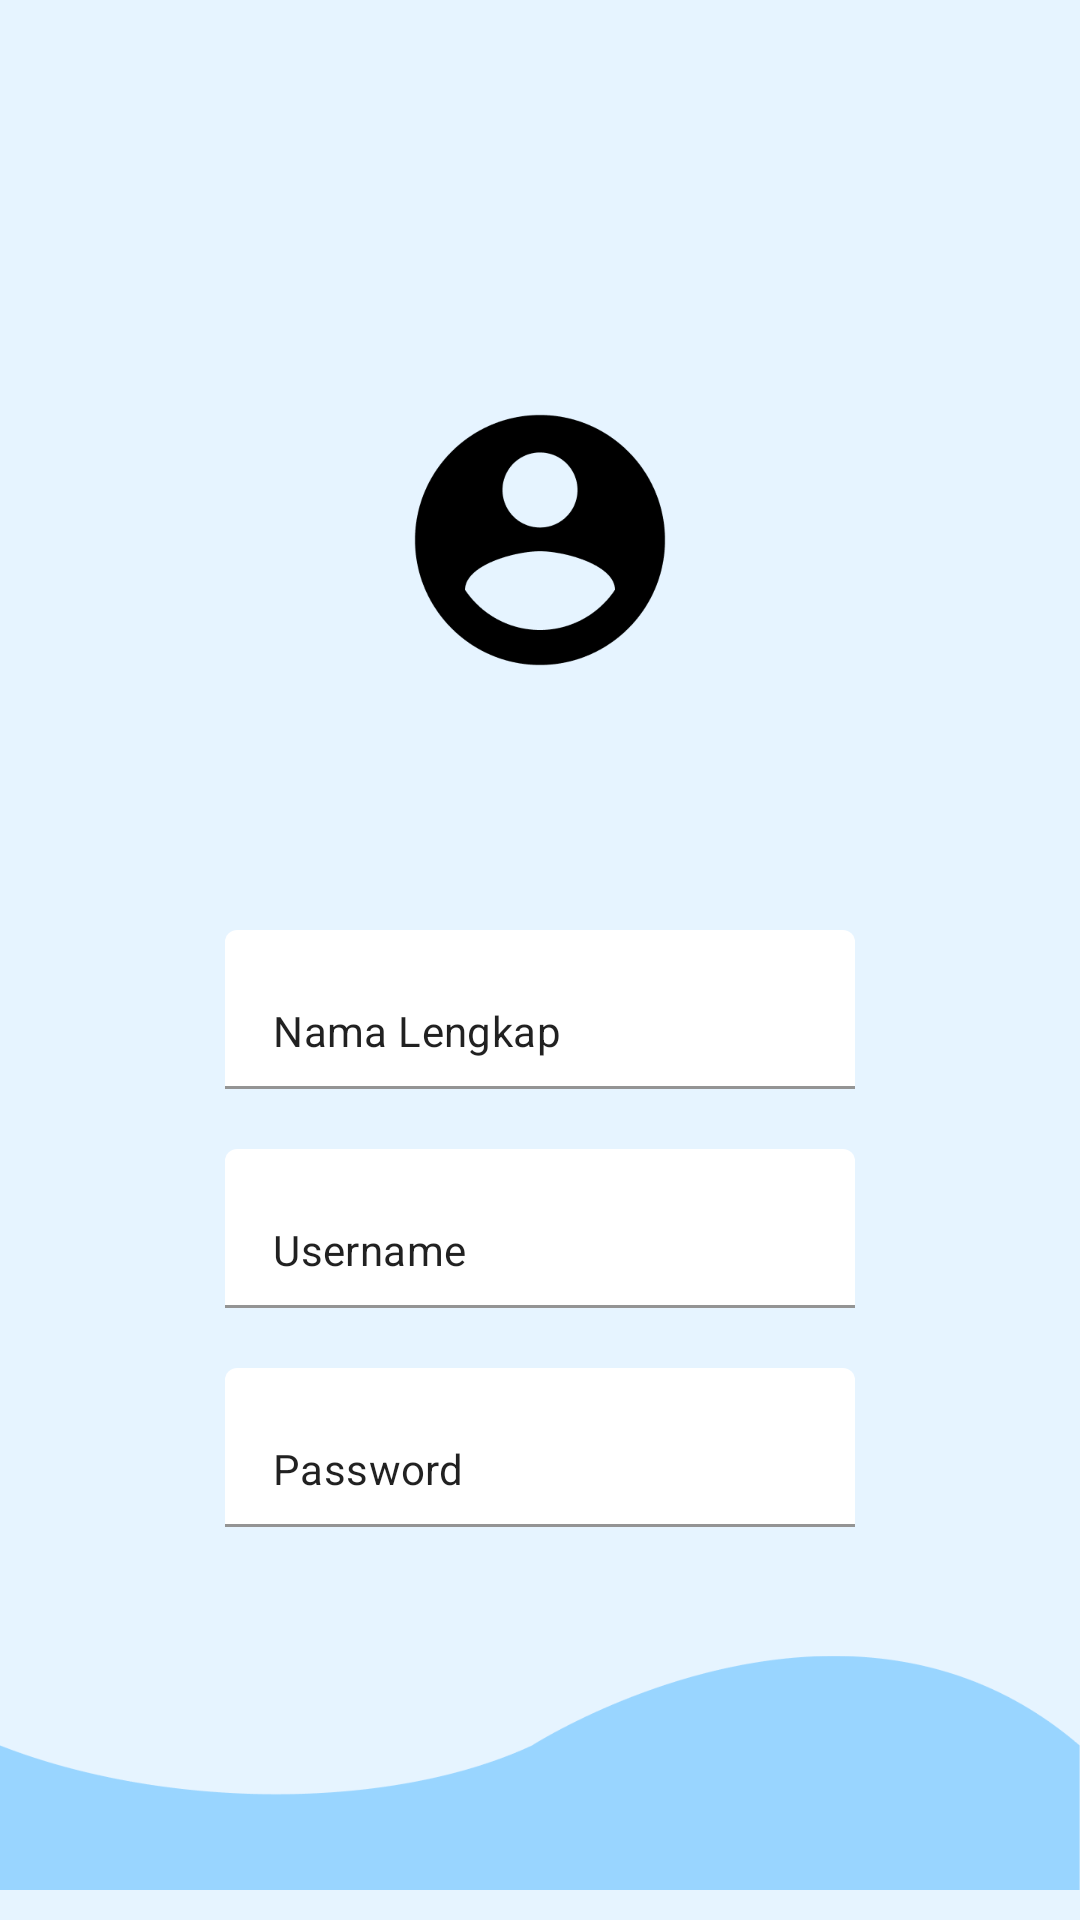

Where to tap for icons on this 1080*1920 app screen, as (x,y):
account: (540,540)
